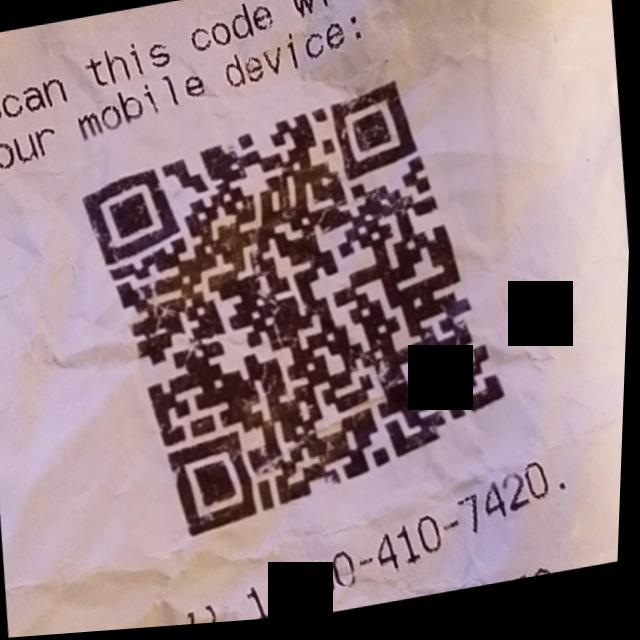QR_CODE: (55, 56, 540, 566)
